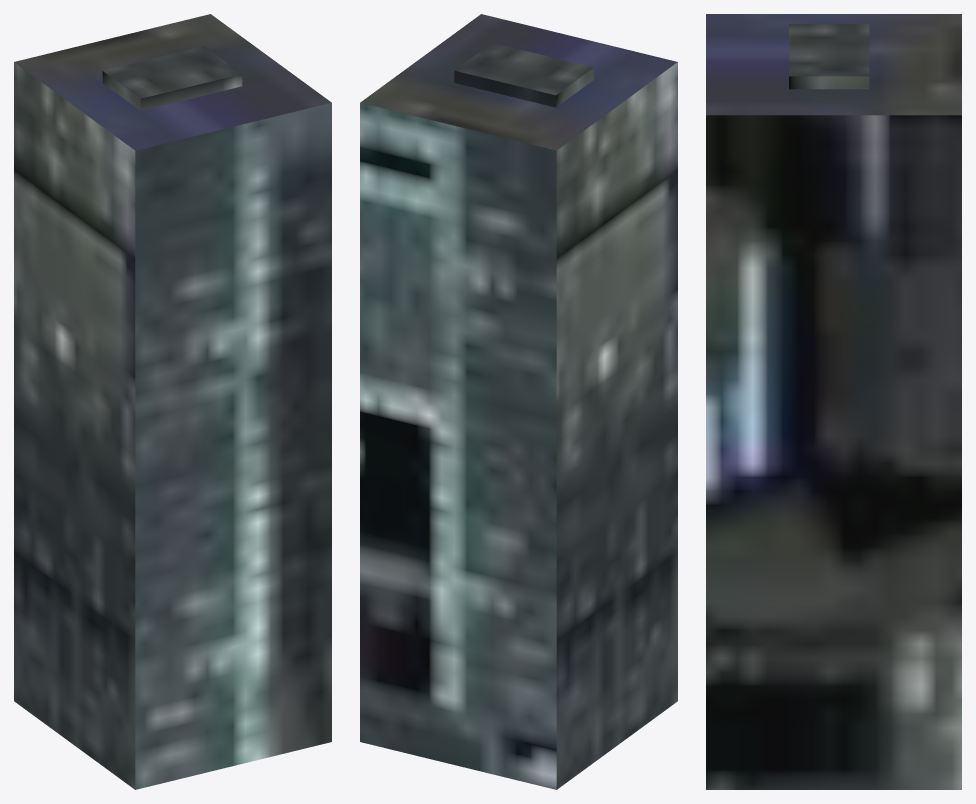
The model's file is night-13.glb.
The picture shows the model from 3 angles, left to right: view 1: azimuth 30°, elevation 25°; view 2: azimuth 150°, elevation 25°; view 3: azimuth 270°, elevation 25°; orthographic projection. The views are drawn at different scales.
Bounding box in the file's own units: 3.16 × 10.01 × 3.37.
Materials: 1 (1 with a texture image).
